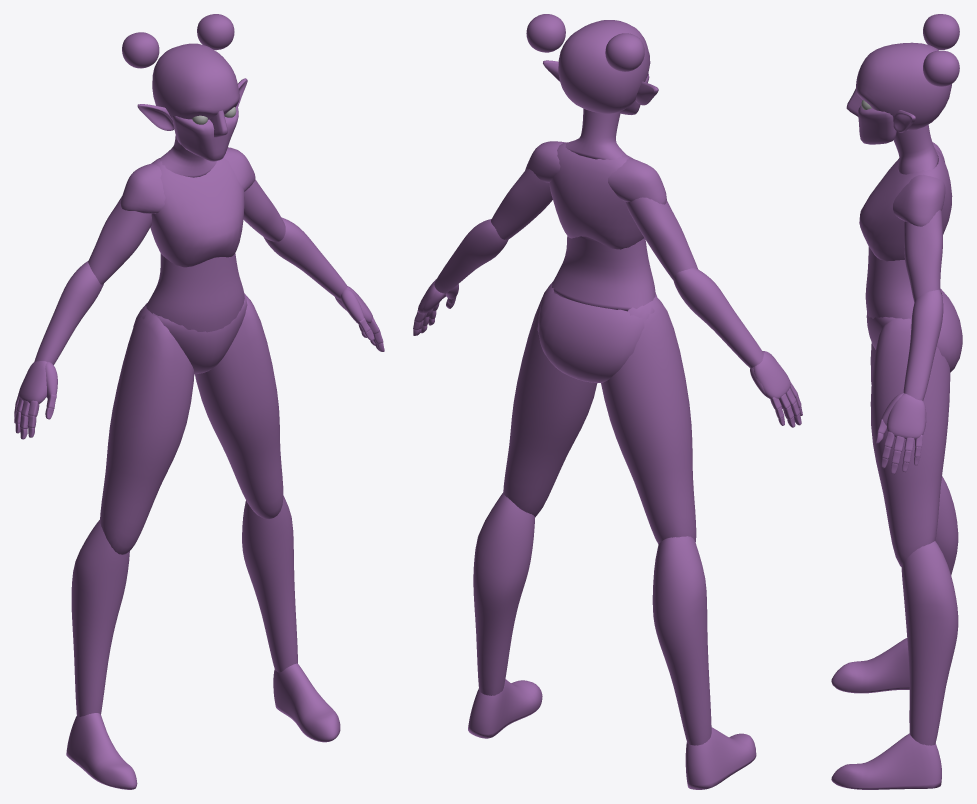
File: DwynBlockout.fbx
The picture shows the model from 3 angles, left to right: view 1: azimuth 30°, elevation 25°; view 2: azimuth 150°, elevation 25°; view 3: azimuth 270°, elevation 25°; orthographic projection. The views are drawn at different scales.
Visible parts, largest first — view 1: DwynLegR, DwynLegL, DwynBody, DwynHead, DwynArmR, DwynArmL, DwynBuns, DwynHandpalmR, DwynEars, DwynHandpalmL; view 2: DwynLegR, DwynLegL, DwynBody, DwynArmR, DwynHead, DwynArmL, DwynBuns, DwynHandpalmR; view 3: DwynLegL, DwynHead, DwynBody, DwynArmL, DwynLegR, DwynBuns, DwynHandpalmL, DwynFingerRefsL, DwynEars, DwynFingerL.
Part boxes in pixels (<box>): DwynLegR: <box>66,303,194,789</box>; DwynLegL: <box>195,293,340,742</box>; DwynBody: <box>133,157,247,374</box>; DwynHead: <box>152,43,239,177</box>; DwynArmR: <box>34,163,165,364</box>; DwynArmL: <box>223,147,347,300</box>; DwynBuns: <box>122,14,234,68</box>; DwynHandpalmR: <box>18,361,57,403</box>; DwynEars: <box>137,78,247,130</box>; DwynHandpalmL: <box>335,286,373,324</box>; DwynLegR: <box>601,297,756,789</box>; DwynLegL: <box>468,282,597,738</box>; DwynBody: <box>537,142,656,382</box>; DwynArmR: <box>608,158,763,368</box>; DwynHead: <box>558,20,650,159</box>; DwynArmL: <box>434,141,566,293</box>; DwynBuns: <box>526,14,644,71</box>; DwynHandpalmR: <box>750,351,790,398</box>; DwynLegL: <box>831,318,958,789</box>; DwynHead: <box>846,42,951,174</box>; DwynBody: <box>859,148,962,372</box>; DwynArmL: <box>893,174,945,400</box>; DwynLegR: <box>831,342,958,693</box>; DwynBuns: <box>923,14,959,86</box>; DwynHandpalmL: <box>881,393,926,439</box>; DwynFingerRefsL: <box>881,431,922,472</box>; DwynEars: <box>893,110,915,132</box>; DwynFingerL: <box>891,436,904,474</box>.
Bounding box in the file's own units: 0.9479 × 1.76 × 0.2982.
